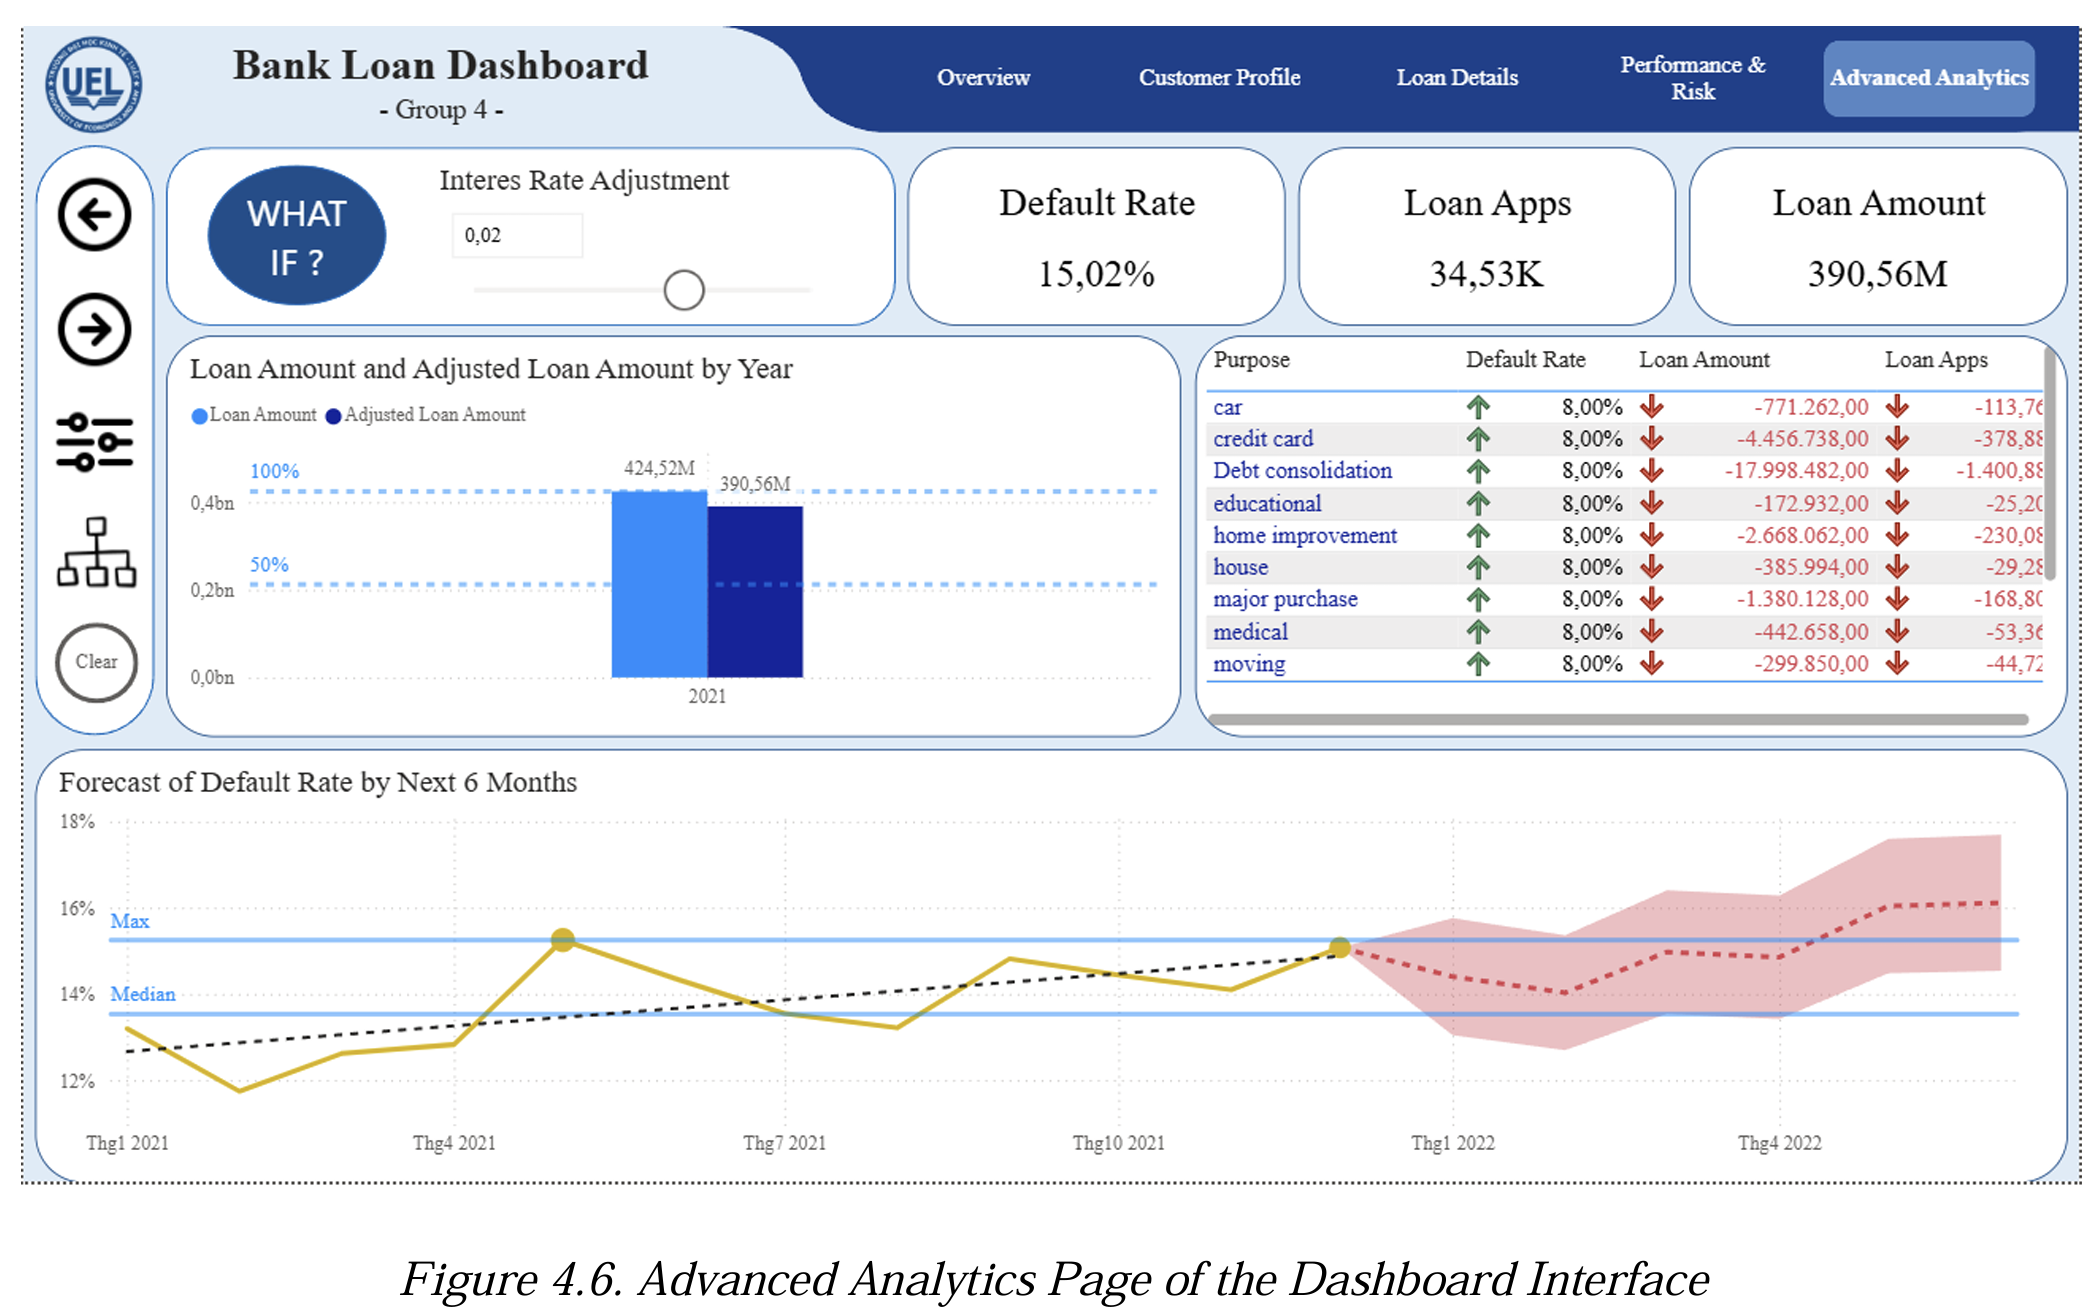

Layout of this report page (visuals, bound fields, positions):
{"tool":"powerbi","page":{"name":"Advanced Analytics","canvas":[1280,720],"ordinal":5},"visuals":[{"type":"shape","box":[0,0,1280,720],"z":0},{"type":"shape","box":[482,0,792,66],"z":0,"group":"g1"},{"type":"pageNavigator","box":[532.5,8.8,132.6,48.8],"z":0,"group":"g2"},{"type":"shape","box":[88.5,74.8,454.3,111.4],"z":0,"group":"g3"},{"type":"shape","box":[381.5,0,898.8,42],"z":1000},{"type":"shape","box":[532,0,748.6,65.7],"z":1000,"group":"g1"},{"type":"pageNavigator","box":[827.1,8.8,132.6,48.8],"z":1000,"group":"g2"},{"type":"shape","box":[114.1,85.4,111.1,87.4],"z":1000,"group":"g3"},{"type":"shape","box":[0,0,492.5,83.8],"z":2000},{"type":"pageNavigator","box":[974.4,8.8,132.6,48.8],"z":2000,"group":"g2"},{"type":"slicer","title":"Interes Rate Adjustment","fields":{"Values":["Interest Rate Adjustment.Interest Rate Adjustment"]},"box":[254.2,84.8,258.6,101.4],"z":2000,"group":"g3"},{"type":"shape","title":"Bank Loan Dashboard","box":[118.6,8.6,282.9,31.4],"z":3000},{"type":"pageNavigator","box":[679.8,8.8,132.6,48.8],"z":3000,"group":"g2"},{"type":"image","box":[7.1,0,72.9,72.9],"z":4000},{"type":"pageNavigator","box":[1121.7,8.8,132.6,48.8],"z":4000,"group":"g2"},{"type":"shape","title":"- Group 4 -","box":[214.8,41.9,91,20],"z":5000},{"type":"group","id":"g1","title":"Group 2","box":[482,0,798.6,66],"z":6000},{"type":"group","id":"g2","title":"Group 1","box":[532.5,8.8,721.2,48.8],"z":7000},{"type":"lineChart","title":"Forecast of Default Rate by Next 6 Months","fields":{"Y":["Measure.Default Rate %"],"Category":["Dim_Time.Date.Variation.Date Hierarchy.Year","Dim_Time.Date.Variation.Date Hierarchy.Month"]},"box":[7.1,450,1265.7,270],"z":8000},{"type":"lineClusteredColumnComboChart","fields":{"Category":["dim_Time.Date.Variation.Date Hierarchy.Year"],"Y":["Sum(fact_loan.loan_amount)","Measure.Adjusted Loan Amount"]},"box":[88.6,192.9,632,250],"z":10000},{"type":"group","id":"g3","title":"Group 3","box":[88.5,74.8,454.3,111.4],"z":11000},{"type":"card","title":"Default Rate","fields":{"Values":["Measure.Adjusted Default Rate (%)"]},"box":[550,75.7,235,111.4],"z":12000},{"type":"card","title":"Loan Amount","fields":{"Values":["Measure.Adjusted Loan Amount"]},"box":[1037.1,75.7,235.7,111.4],"z":13000},{"type":"card","title":"Loan Apps","fields":{"Values":["Measure.Adjusted Loan Count"]},"box":[793.6,75.7,235,111.4],"z":14000},{"type":"tableEx","title":"Adjusted Default Rate (%) by Grade","fields":{"Values":["dim_purpose.purpose","Measure.Default Rate Change %","Measure.Loan Amount Change Value","Measure.Loan Count Change Value"]},"box":[730,192.9,543,250],"z":15000},{"type":"shape","box":[7.4,74.1,74.1,367.8],"z":16000},{"type":"actionButton","box":[19.3,372.2,51.9,50.4],"z":17000},{"type":"image","box":[14.8,158.7,59.3,59.3],"z":18000},{"type":"image","box":[14.8,229.8,59.3,59.3],"z":19000},{"type":"image","box":[16.3,298.1,59.3,59.3],"z":20000},{"type":"image","box":[14.8,87.5,59.3,59.3],"z":21000}]}

Visuals, with their boxes on the page's 1280x720 design canvas (x1, y1, x2, y2). These are canvas units, not pixel positions in the 2096x1313 screenshot, which may show the page scaled, cropped or inside an application window:
shape: 0,0,1280,720
shape: 482,0,1274,66
pageNavigator: 532,9,665,58
shape: 88,75,543,186
shape: 382,0,1280,42
shape: 532,0,1281,66
pageNavigator: 827,9,960,58
shape: 114,85,225,173
shape: 0,0,492,84
pageNavigator: 974,9,1107,58
"Interes Rate Adjustment" slicer: 254,85,513,186
"Bank Loan Dashboard" shape: 119,9,402,40
pageNavigator: 680,9,812,58
image: 7,0,80,73
pageNavigator: 1122,9,1254,58
"- Group 4 -" shape: 215,42,306,62
"Group 2" group: 482,0,1281,66
"Group 1" group: 532,9,1254,58
"Forecast of Default Rate by Next 6 Months" lineChart: 7,450,1273,720
lineClusteredColumnComboChart - dim_Time.Date.Variation.Date Hierarchy.Year x Sum(fact_loan.loan_amount): 89,193,721,443
"Group 3" group: 88,75,543,186
"Default Rate" card: 550,76,785,187
"Loan Amount" card: 1037,76,1273,187
"Loan Apps" card: 794,76,1029,187
"Adjusted Default Rate (%) by Grade" tableEx: 730,193,1273,443
shape: 7,74,82,442
actionButton: 19,372,71,423
image: 15,159,74,218
image: 15,230,74,289
image: 16,298,76,357
image: 15,88,74,147
